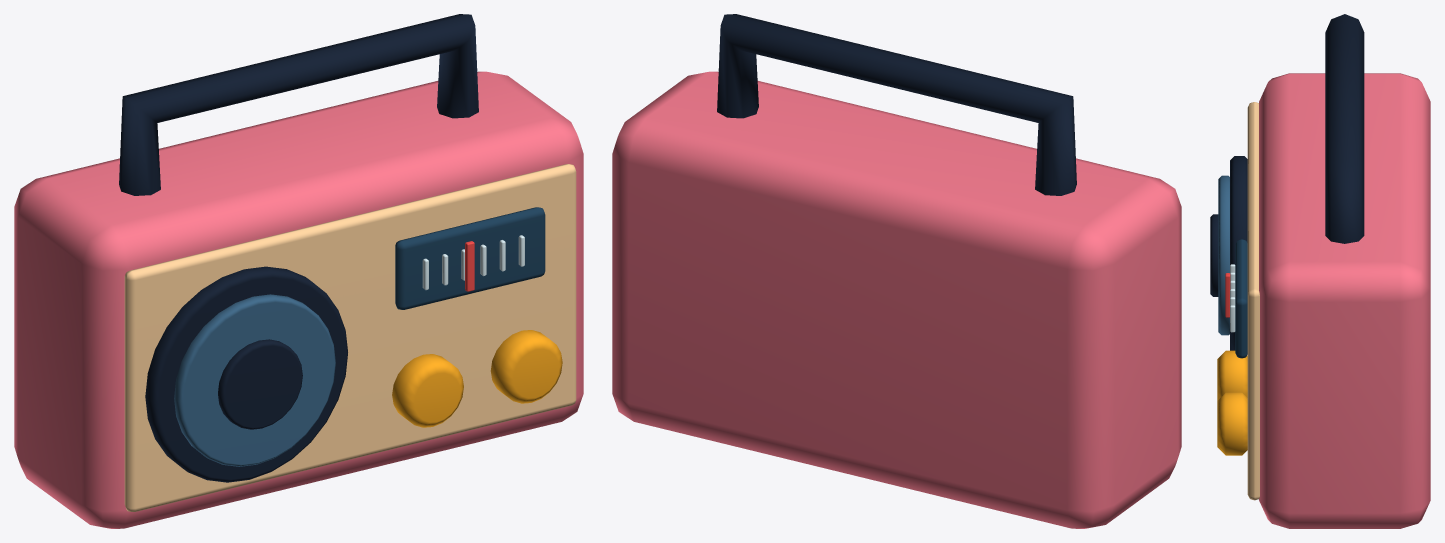
File: radio.glb
3 views of the same model, side by side, from view 1: azimuth 30°, elevation 25°; view 2: azimuth 150°, elevation 25°; view 3: azimuth 270°, elevation 25° (orthographic). The views are drawn at different scales.
Parts seen in each view (by area): view 1: radio; view 2: radio; view 3: radio.
Part boxes in pixels (x1=…): radio: x1=14, y1=14, x2=583, y2=528; radio: x1=612, y1=14, x2=1181, y2=528; radio: x1=1210, y1=14, x2=1430, y2=528.
Size of the model in its own units: 1 by 0.758 by 0.4374.
Materials: 1 (1 with a texture image).
